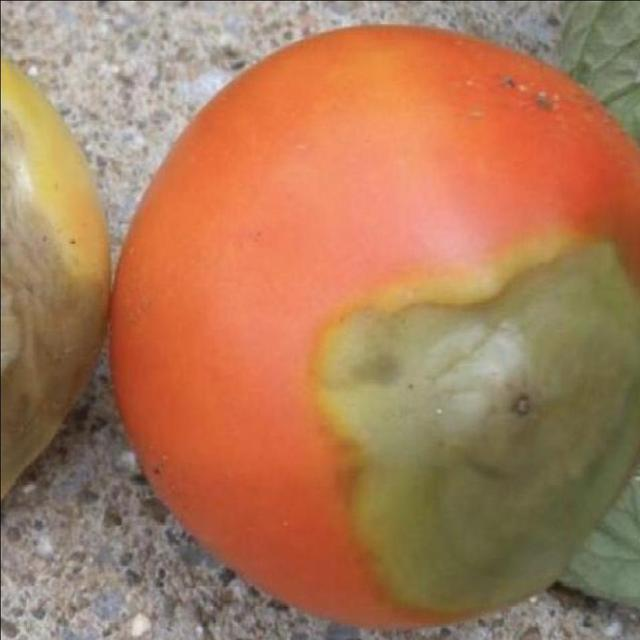Blossom End Rot Fruit: (33, 196, 316, 282)
